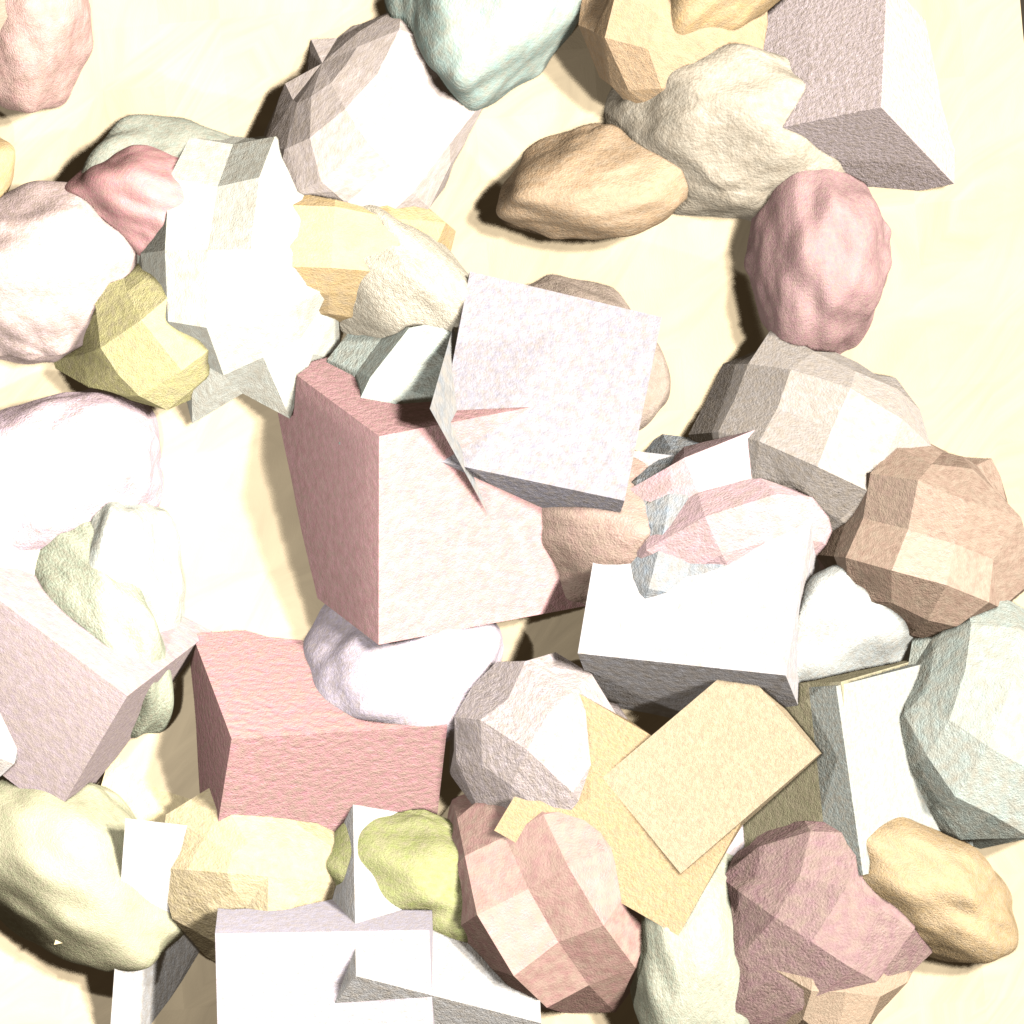rock: (541, 368, 939, 712), (0, 677, 384, 1023), (184, 0, 574, 312), (226, 94, 536, 463), (0, 166, 341, 458), (583, 0, 886, 300), (573, 447, 859, 762), (0, 681, 259, 1023), (248, 749, 583, 999), (513, 0, 888, 222), (779, 396, 1023, 695), (706, 650, 970, 912), (0, 129, 222, 432), (291, 773, 541, 1023), (176, 619, 452, 845), (570, 776, 817, 1023), (451, 81, 760, 278), (717, 0, 962, 219), (320, 0, 661, 153), (736, 138, 907, 376)
